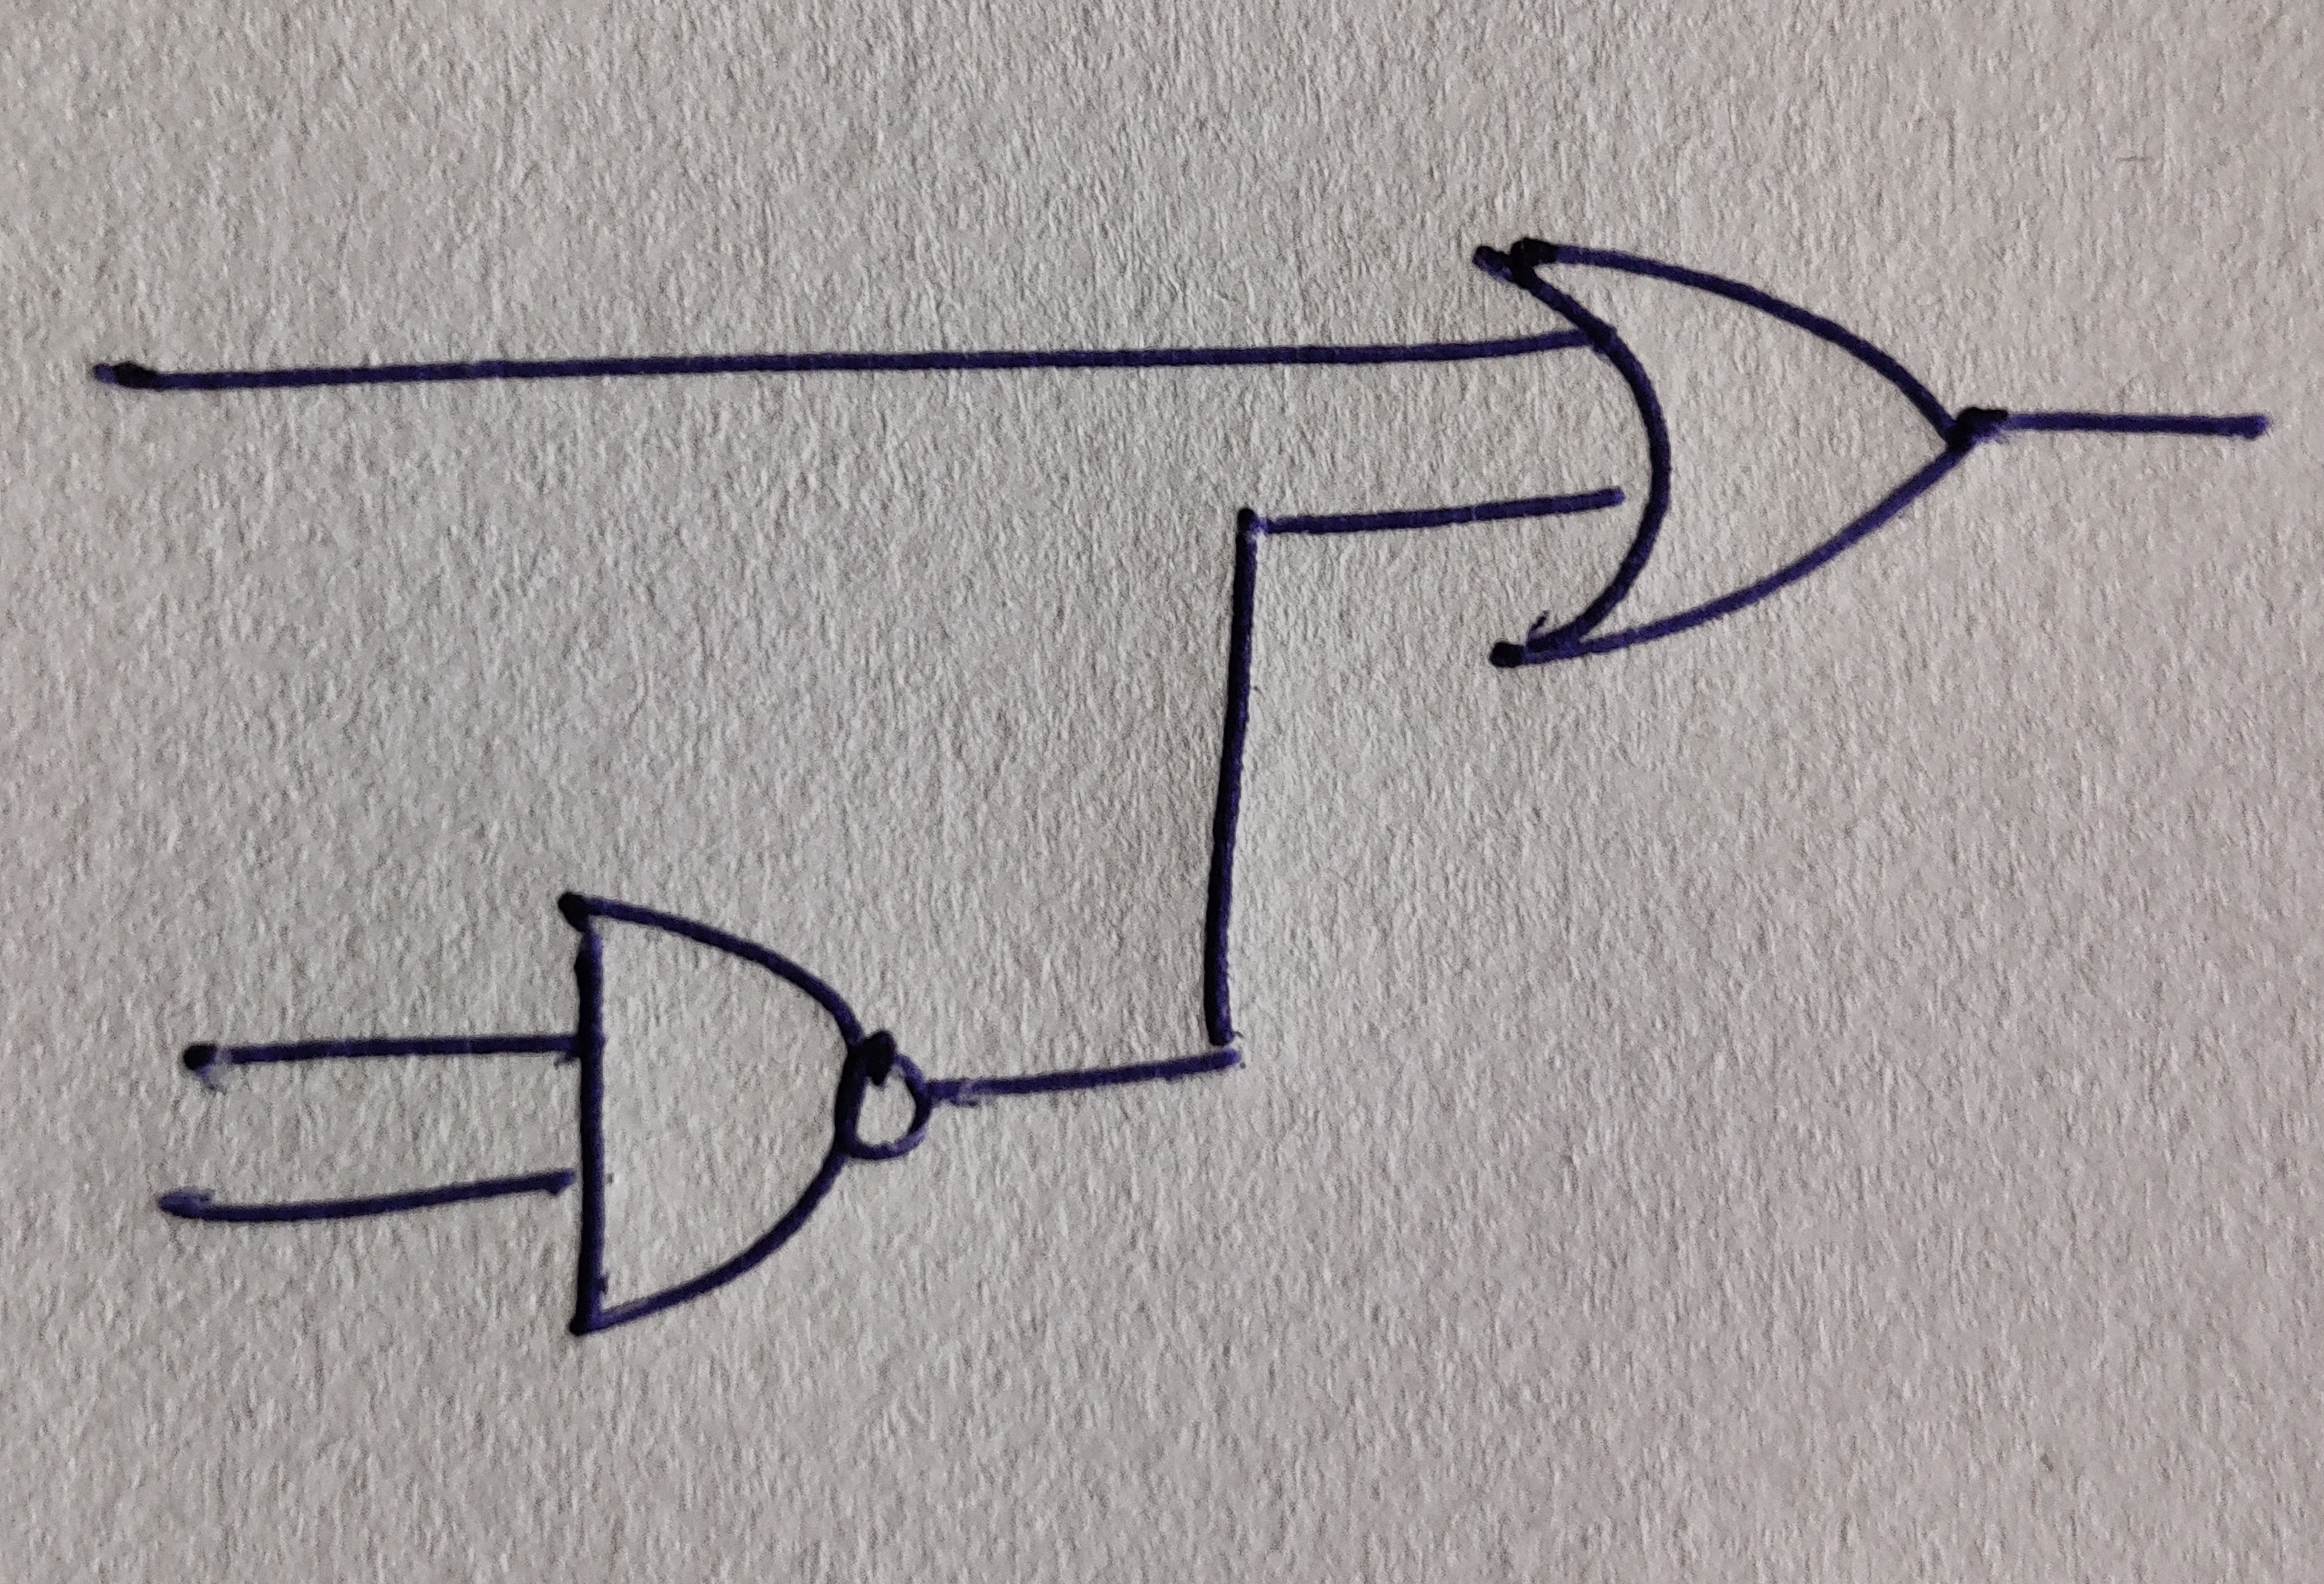and: (558, 892, 855, 1337)
not: (834, 1035, 932, 1160)
or: (1469, 240, 1976, 668)
